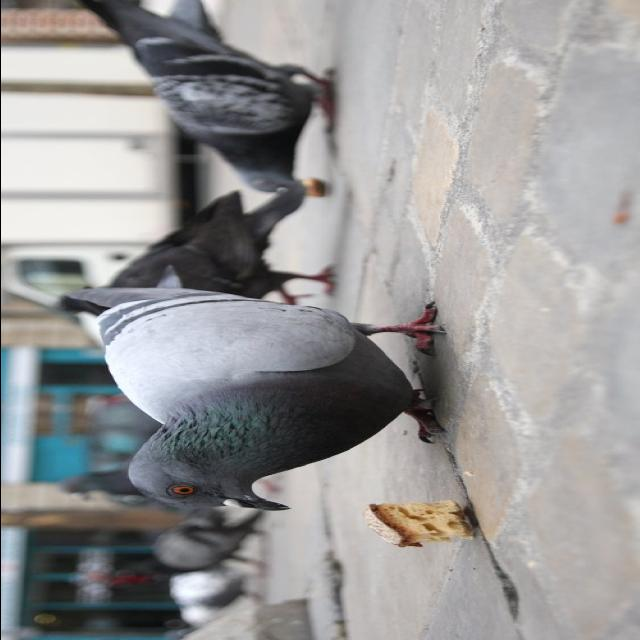pigeon: (37, 277, 496, 511)
